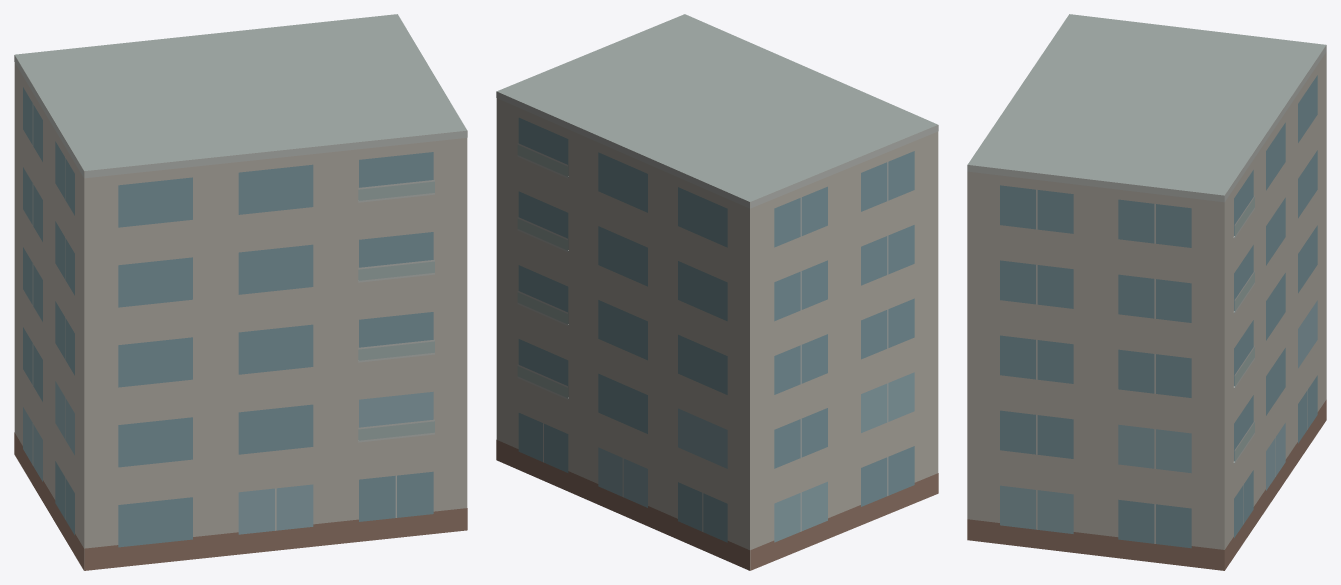
Rendered from survey-upis-32877760.glb.
3 renders of one model, left to right at view 1: azimuth 30°, elevation 25°; view 2: azimuth 150°, elevation 25°; view 3: azimuth 270°, elevation 25°, orthographic. The views are drawn at different scales.
Visible parts, largest first — view 1: survey-upis-32877760.tmp; view 2: survey-upis-32877760.tmp; view 3: survey-upis-32877760.tmp.
Part boxes in pixels (x1,y1,x2,y2): survey-upis-32877760.tmp: (14, 14, 467, 570); survey-upis-32877760.tmp: (496, 14, 938, 570); survey-upis-32877760.tmp: (967, 14, 1326, 570).
Bounding box in the file's own units: 14.12 × 13.6 × 11.8.
